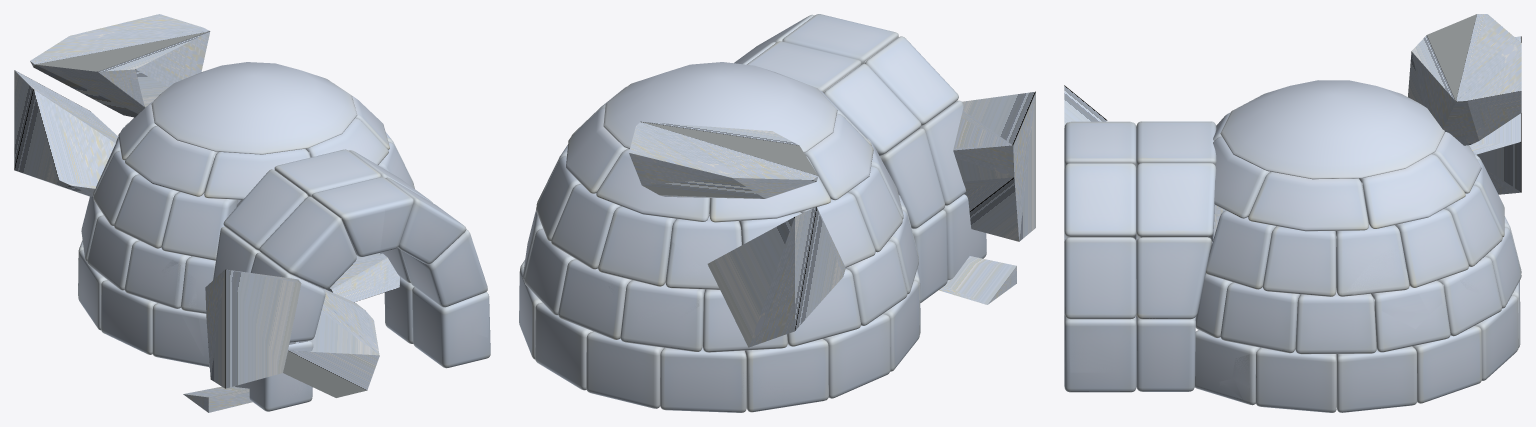
Rendered from lglooDestroy.fbx.
3 renders of one model, left to right at view 1: azimuth 30°, elevation 25°; view 2: azimuth 150°, elevation 25°; view 3: azimuth 270°, elevation 25°, orthographic. The views are drawn at different scales.
Parts seen in each view (by area): view 1: igloo, igloo_cell.075, igloo_cell.010, igloo_cell.063, igloo_cell.006, igloo_cell.009, igloo_cell.001, igloo_cell.050, igloo_cell.011, igloo_cell.032, igloo_cell.041, igloo_cell (+4 smaller); view 2: igloo, igloo_cell.075, igloo_cell.006, igloo_cell.063, igloo_cell.010, igloo_cell.009, igloo_cell, igloo_cell.088, igloo_cell.018, igloo_cell.011; view 3: igloo, igloo_cell.075, igloo_cell.010, igloo_cell.027, igloo_cell.006, igloo_cell.043, igloo_cell.011, igloo_cell.093, igloo_cell.063, igloo_cell.019, igloo_cell.036, igloo_cell.015 (+1 smaller).
Boxes of the visible parts, bbox=[...] form: igloo: bbox=[78, 62, 490, 410]; igloo_cell.075: bbox=[30, 14, 210, 117]; igloo_cell.010: bbox=[118, 95, 389, 199]; igloo_cell.063: bbox=[205, 269, 301, 388]; igloo_cell.006: bbox=[14, 70, 118, 196]; igloo_cell.009: bbox=[93, 122, 237, 260]; igloo_cell.001: bbox=[283, 288, 379, 397]; igloo_cell.050: bbox=[298, 196, 384, 293]; igloo_cell.011: bbox=[209, 169, 413, 368]; igloo_cell.032: bbox=[326, 252, 400, 302]; igloo_cell.041: bbox=[289, 283, 325, 342]; igloo_cell: bbox=[183, 386, 252, 412]; igloo: bbox=[519, 14, 986, 412]; igloo_cell.075: bbox=[629, 121, 818, 198]; igloo_cell.006: bbox=[707, 207, 845, 347]; igloo_cell.063: bbox=[953, 91, 1035, 241]; igloo_cell.010: bbox=[566, 86, 873, 220]; igloo_cell.009: bbox=[670, 138, 903, 284]; igloo_cell: bbox=[939, 256, 1016, 304]; igloo_cell.088: bbox=[608, 275, 700, 321]; igloo_cell.018: bbox=[666, 240, 700, 287]; igloo_cell.011: bbox=[824, 62, 946, 302]; igloo: bbox=[1064, 80, 1521, 412]; igloo_cell.075: bbox=[1408, 14, 1521, 145]; igloo_cell.010: bbox=[1213, 112, 1470, 230]; igloo_cell.027: bbox=[1205, 210, 1407, 296]; igloo_cell.006: bbox=[1469, 36, 1521, 194]; igloo_cell.043: bbox=[1064, 317, 1130, 372]; igloo_cell.011: bbox=[1136, 124, 1213, 391]; igloo_cell.093: bbox=[1355, 286, 1429, 329]; igloo_cell.063: bbox=[1064, 85, 1107, 127]; igloo_cell.019: bbox=[1353, 250, 1414, 294]; igloo_cell.036: bbox=[1415, 274, 1459, 314]; igloo_cell.015: bbox=[1232, 354, 1255, 388].
Size of what is drawn, in the model's own units: 260 by 180 by 312.
